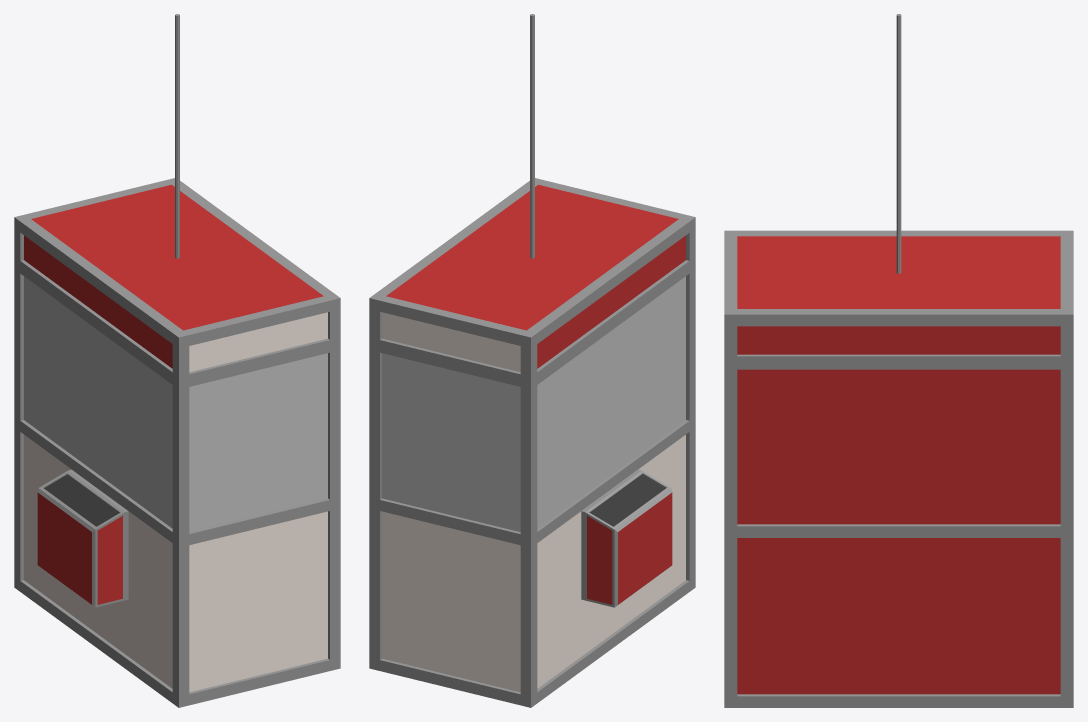
Rendered from ClawDoll Project.fbx.
The picture shows the model from 3 angles, left to right: view 1: azimuth 30°, elevation 25°; view 2: azimuth 150°, elevation 25°; view 3: azimuth 270°, elevation 25°; orthographic projection. The views are drawn at different scales.
Visible parts, largest first — view 1: Mesin, Kaca_4, Kaca_2, Cylinder; view 2: Mesin, Kaca_4, Kaca, Cylinder; view 3: Mesin, Kaca_3, Cylinder.
Part boxes in pixels (box(x1,y1,x2,y2)): Mesin: box(14, 178, 340, 707); Kaca_4: box(24, 276, 172, 528); Kaca_2: box(189, 353, 327, 531); Cylinder: box(175, 14, 179, 258); Mesin: box(369, 178, 695, 707); Kaca_4: box(537, 276, 685, 528); Kaca: box(382, 353, 520, 531); Cylinder: box(530, 14, 534, 258); Mesin: box(724, 230, 1073, 707); Kaca_3: box(737, 369, 1060, 524); Cylinder: box(896, 14, 901, 273).
Size of the model in its own units: 2750 by 8325 by 4050.
